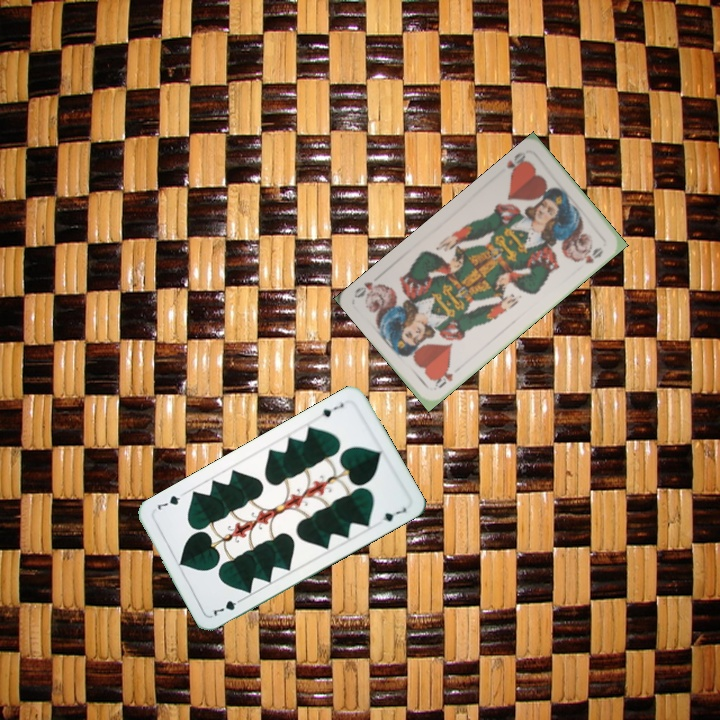G7: (209, 594, 246, 619), (318, 399, 346, 420)
HO: (502, 148, 532, 179), (430, 365, 456, 391)
